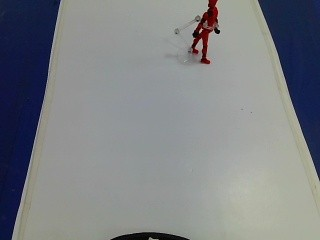pedestrian: (179, 1, 229, 70)
